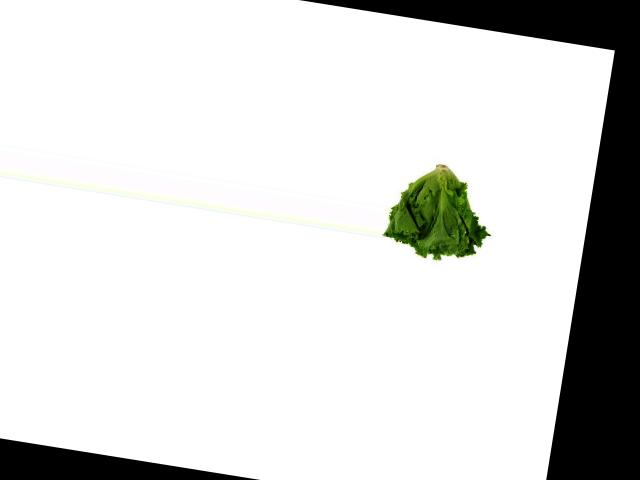lettuce: (378, 154, 495, 271)
